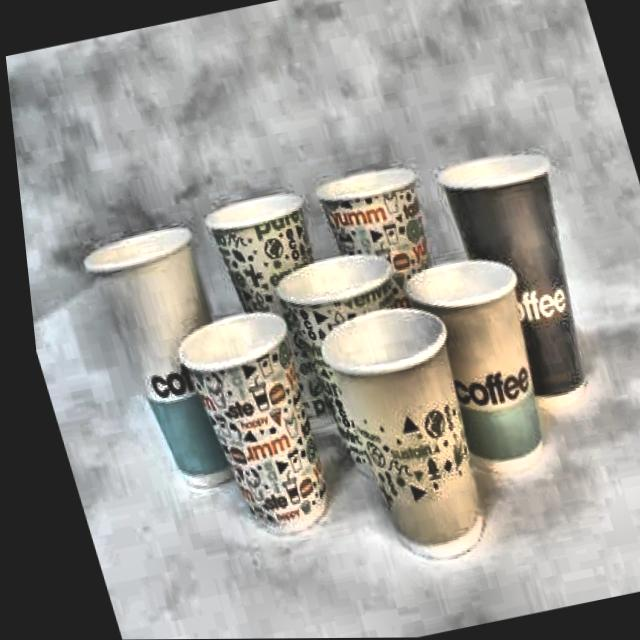Cup: (295, 296, 504, 576), (68, 217, 263, 509), (262, 231, 456, 502), (424, 140, 607, 409), (161, 301, 338, 545), (307, 164, 472, 424), (390, 250, 563, 480), (191, 191, 353, 436)
